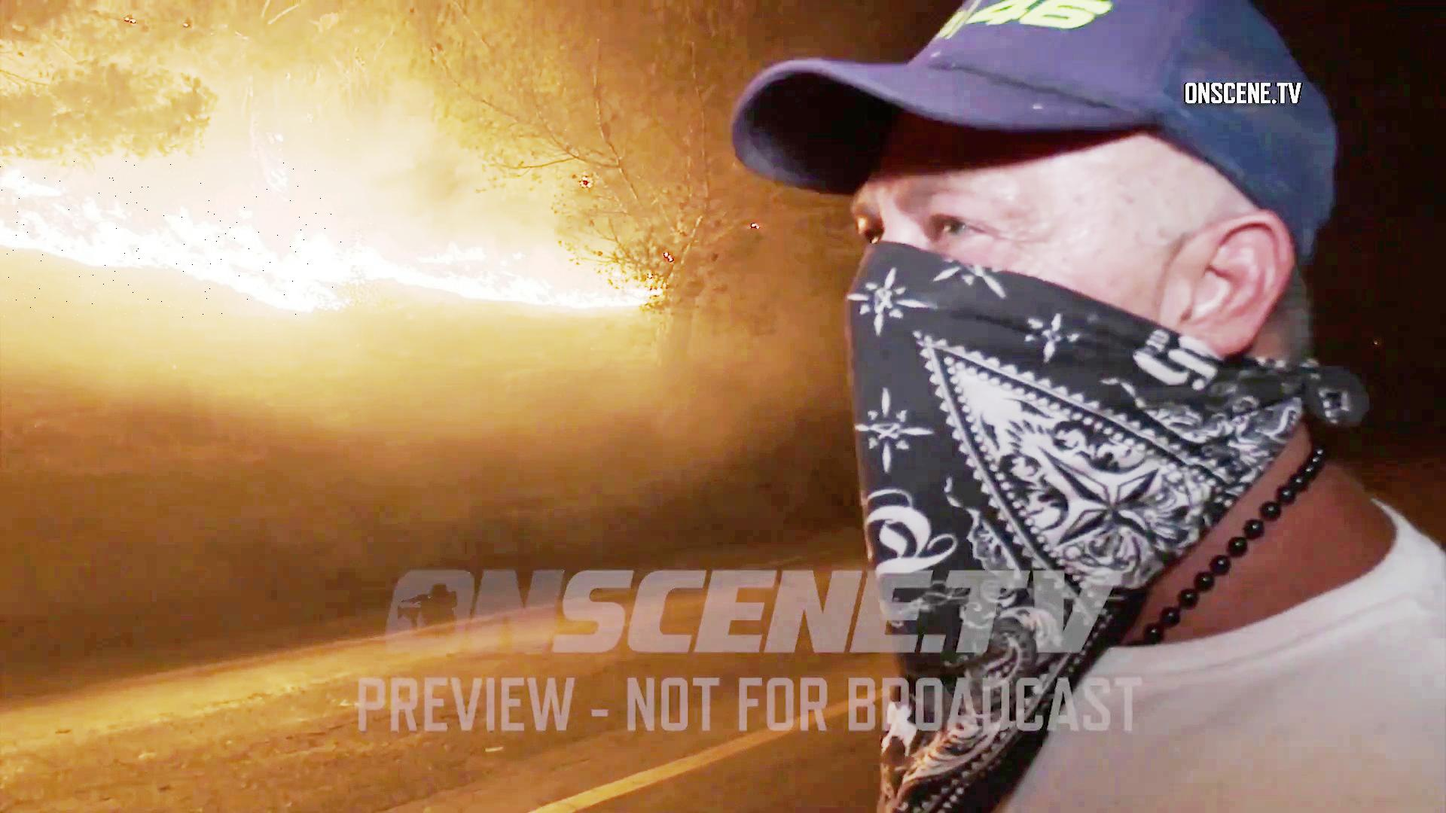fire: (0, 162, 349, 318)
